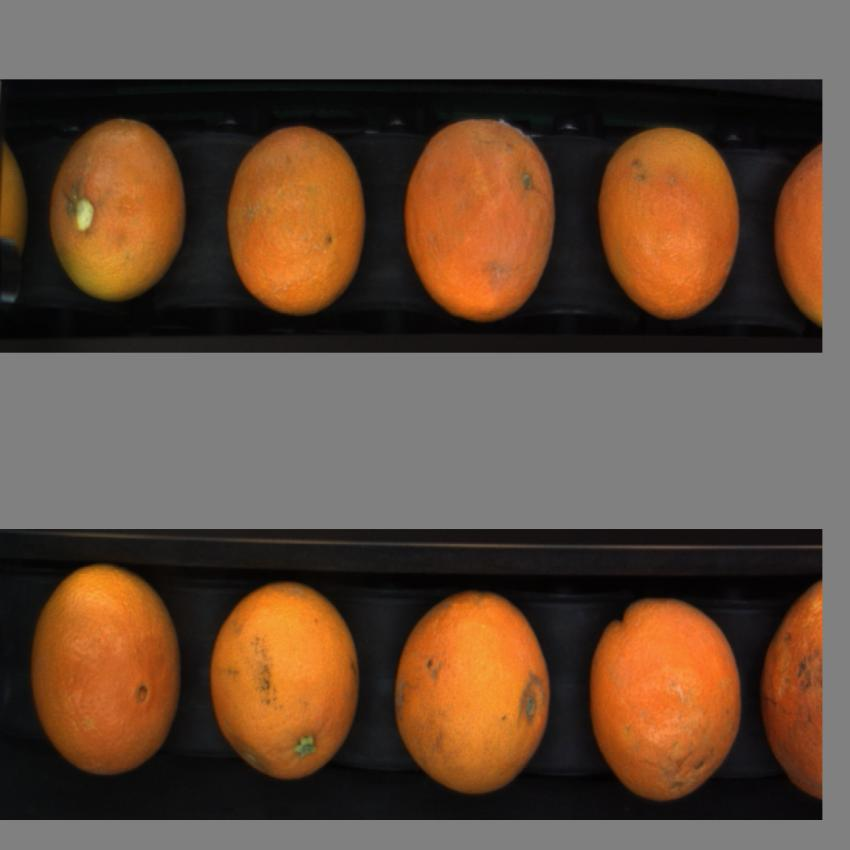Buen estado: (22, 550, 190, 798), (206, 561, 368, 811), (388, 574, 557, 810), (584, 587, 746, 811), (218, 114, 374, 328), (593, 123, 749, 334), (45, 108, 196, 322), (770, 132, 823, 333)
Mal estado: (401, 111, 558, 332), (755, 568, 821, 818)
